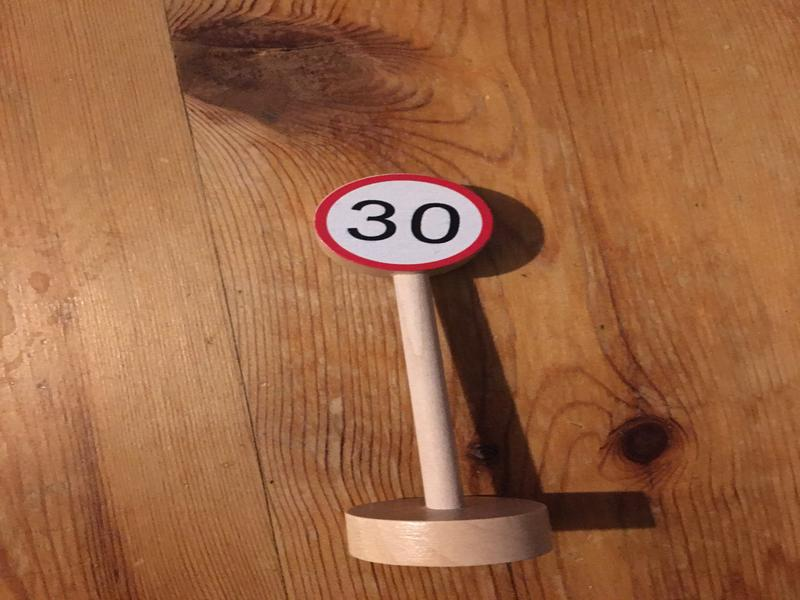Traffic_Sign_30: (314, 174, 491, 272)
